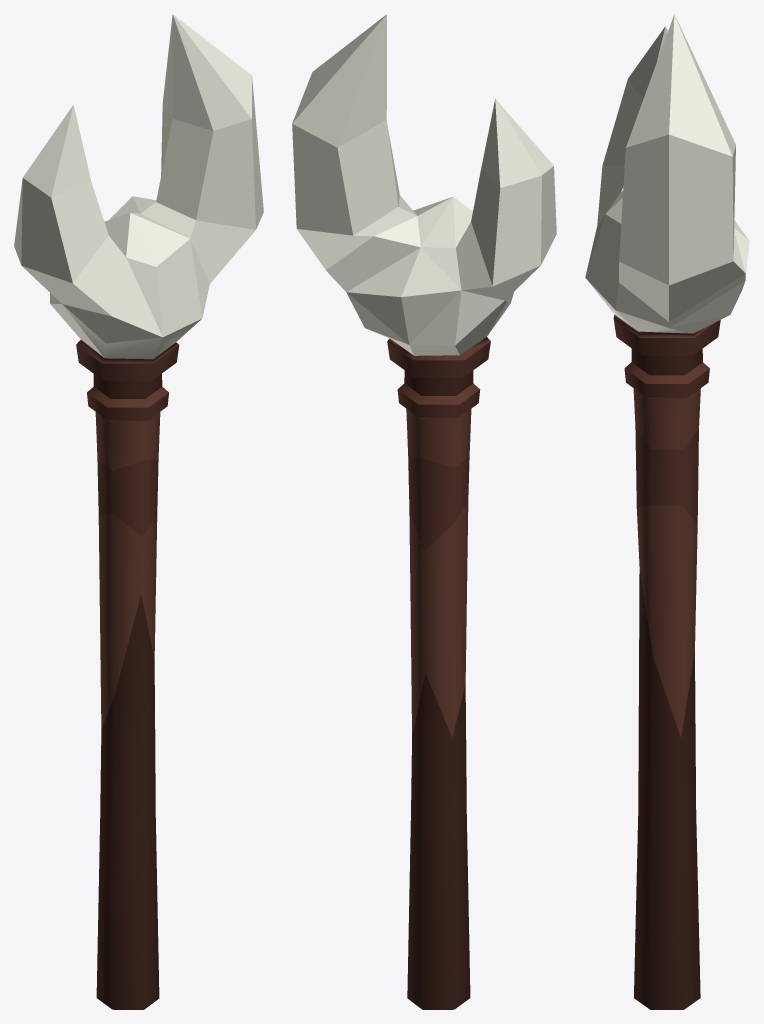
File: Wield_Gear_Left_22.fbx
3 views of the same model, side by side, from view 1: azimuth 30°, elevation 25°; view 2: azimuth 150°, elevation 25°; view 3: azimuth 270°, elevation 25° (orthographic). The views are drawn at different scales.
Visible parts, largest first — view 1: Wield_Gear_Left_22; view 2: Wield_Gear_Left_22; view 3: Wield_Gear_Left_22.
Boxes of the visible parts, x1=… form: Wield_Gear_Left_22: x1=14, y1=14, x2=263, y2=1009; Wield_Gear_Left_22: x1=292, y1=14, x2=556, y2=1009; Wield_Gear_Left_22: x1=585, y1=14, x2=749, y2=1009.
Bounding box in the file's own units: 19.73 × 76.69 × 11.22.
